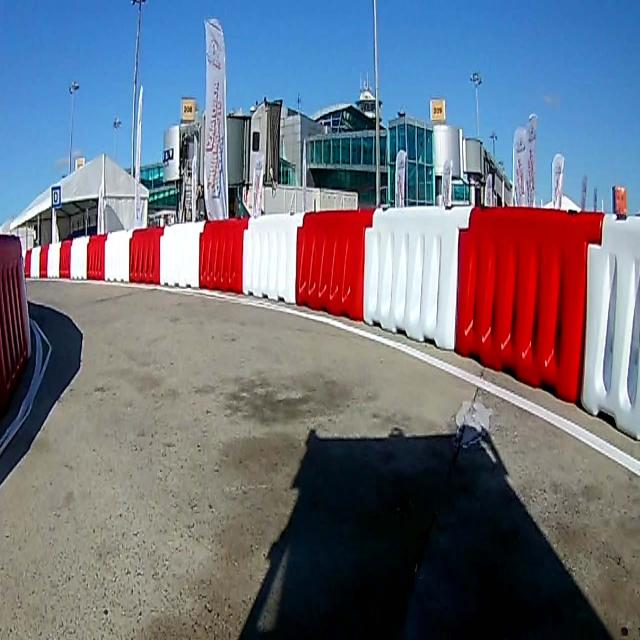durak: (50, 184, 62, 208)
